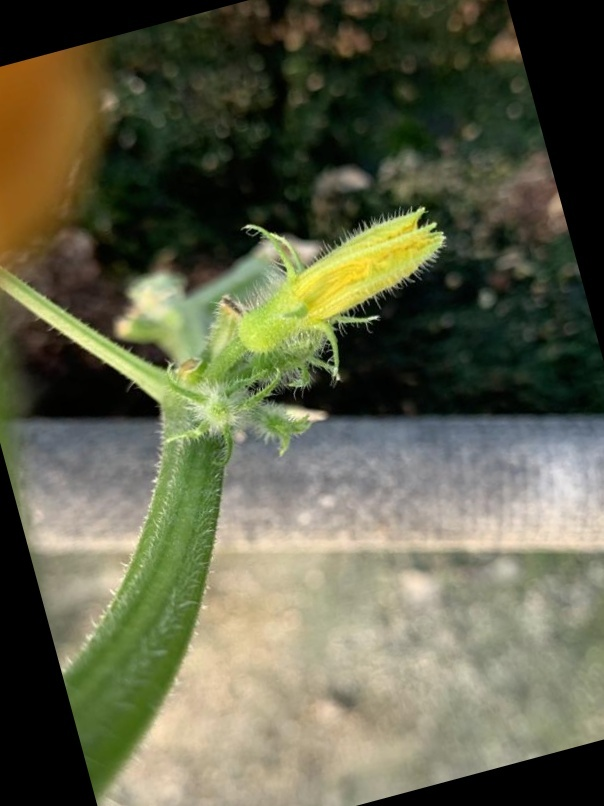bud: (194, 204, 454, 348)
